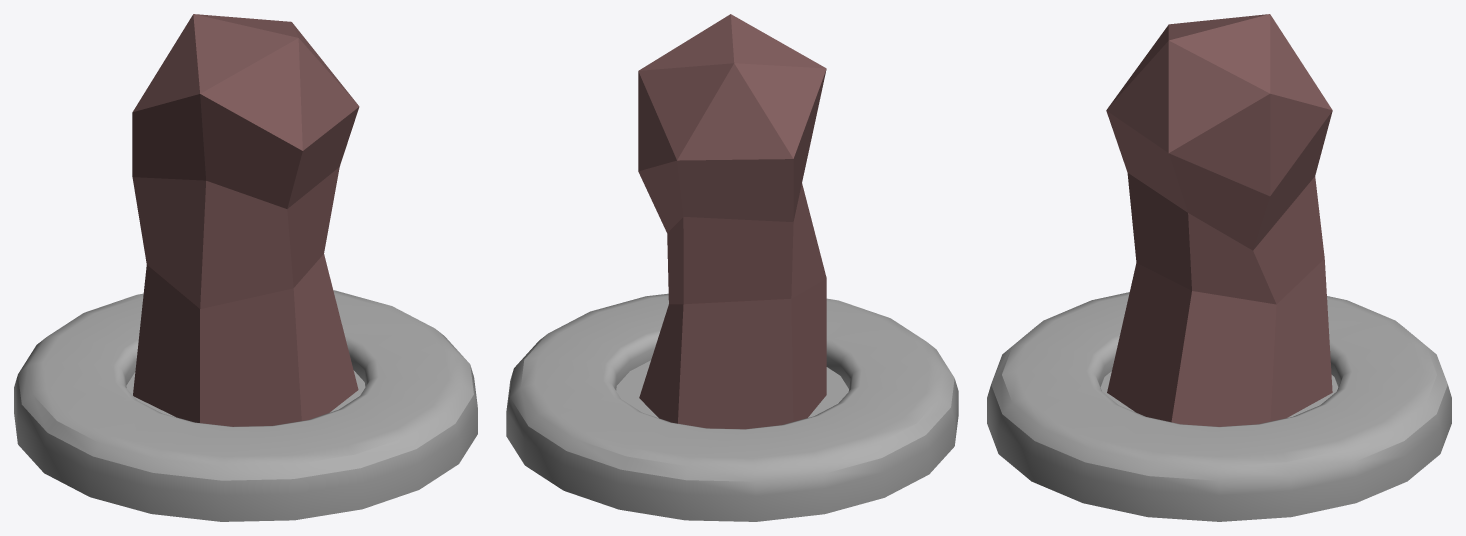
The model's file is crystal_light.fbx.
3 renders of one model, left to right at view 1: azimuth 30°, elevation 25°; view 2: azimuth 150°, elevation 25°; view 3: azimuth 270°, elevation 25°, orthographic. The views are drawn at different scales.
Visible parts, largest first — view 1: crystalLight; view 2: crystalLight; view 3: crystalLight.
Boxes of the visible parts, x1,y1,x2,y2 form: crystalLight: [14, 14, 477, 521]; crystalLight: [506, 14, 958, 521]; crystalLight: [987, 14, 1451, 521].
Bounding box in the file's own units: 64 × 60.26 × 64.
